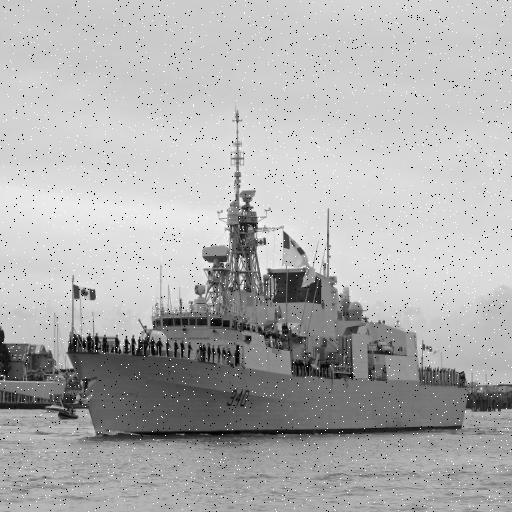Fragata: (72, 105, 471, 440)
